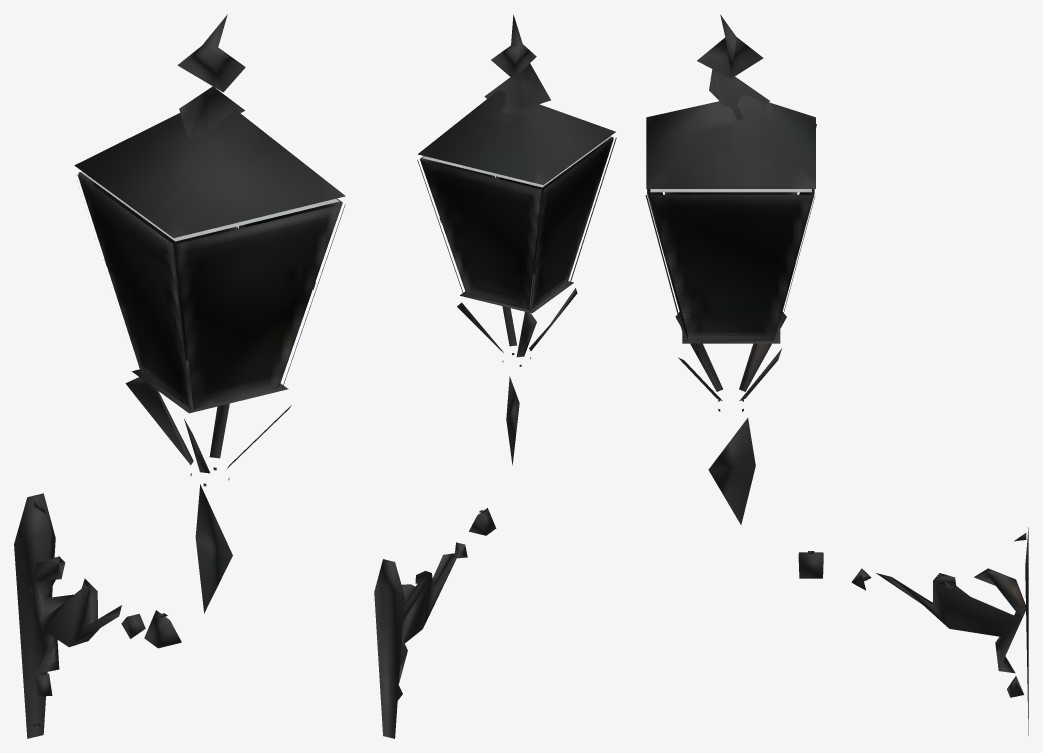
The model's file is street_lamp_02_lod.glb.
3 views of the same model, side by side, from view 1: azimuth 30°, elevation 25°; view 2: azimuth 150°, elevation 25°; view 3: azimuth 270°, elevation 25° (orthographic). The views are drawn at different scales.
Visible parts, largest first — view 1: street_lamp_02; view 2: street_lamp_02; view 3: street_lamp_02.
Part boxes in pixels (left/top/right/bottom): street_lamp_02: left=14, top=14, right=345, bottom=738; street_lamp_02: left=374, top=14, right=616, bottom=738; street_lamp_02: left=645, top=15, right=1028, bottom=735.
Bounding box in the file's own units: 0.3538 × 1.65 × 0.7905.
2 materials, 2 textured.
